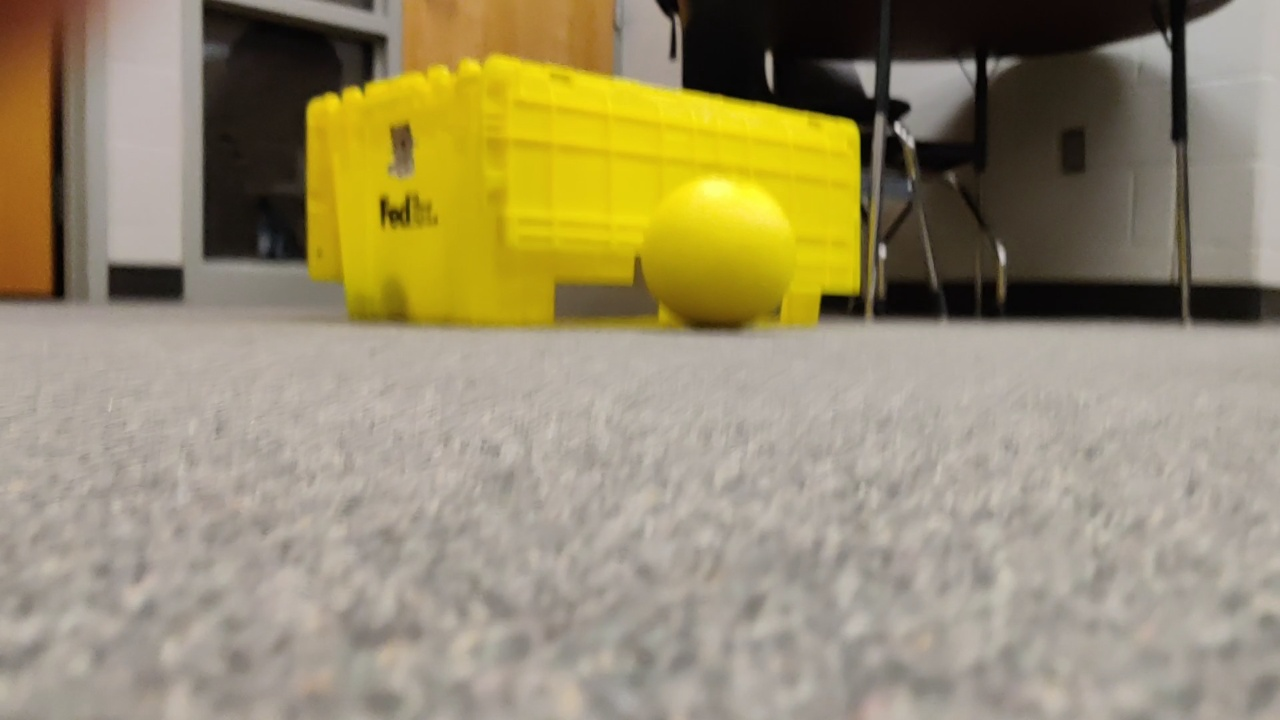Ball: (648, 178, 788, 326)
